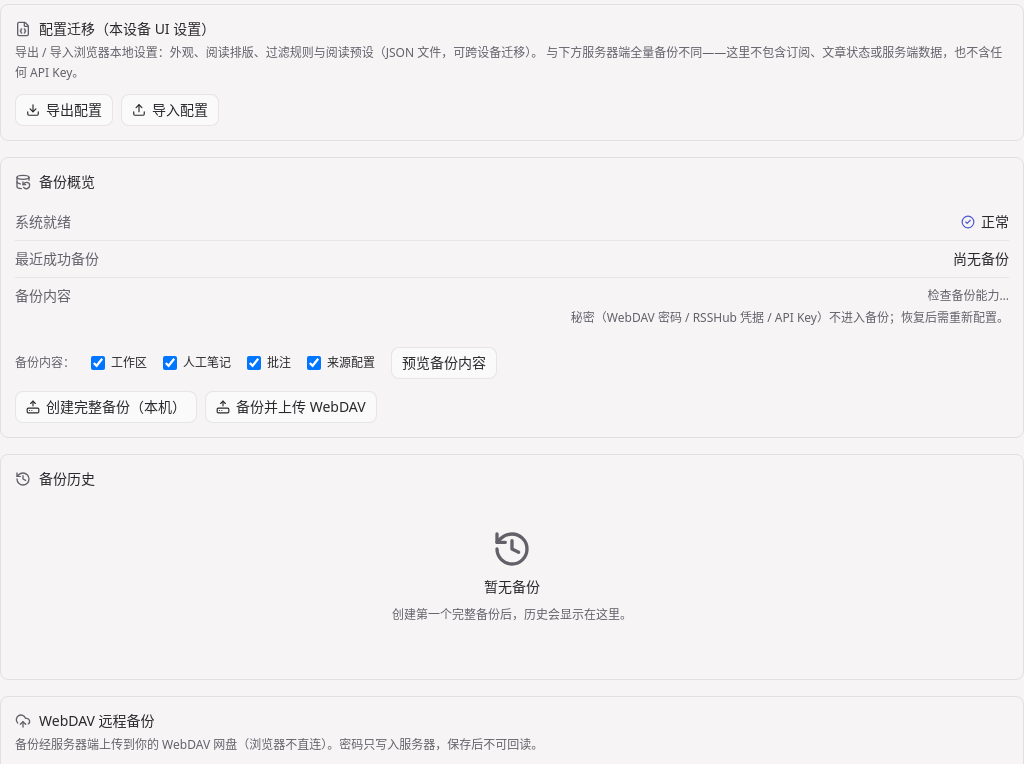
Test: 0018 备份概览与执行 › 创建失败（backup_busy）→ 稳定错误信息可见；成功后历史刷新
Expected: the text "暂无备份" is shown, [484, 577, 540, 597]
Step 1. Click the button "创建完整备份（本机）" → coordinates (106, 407), box [15, 391, 197, 423]
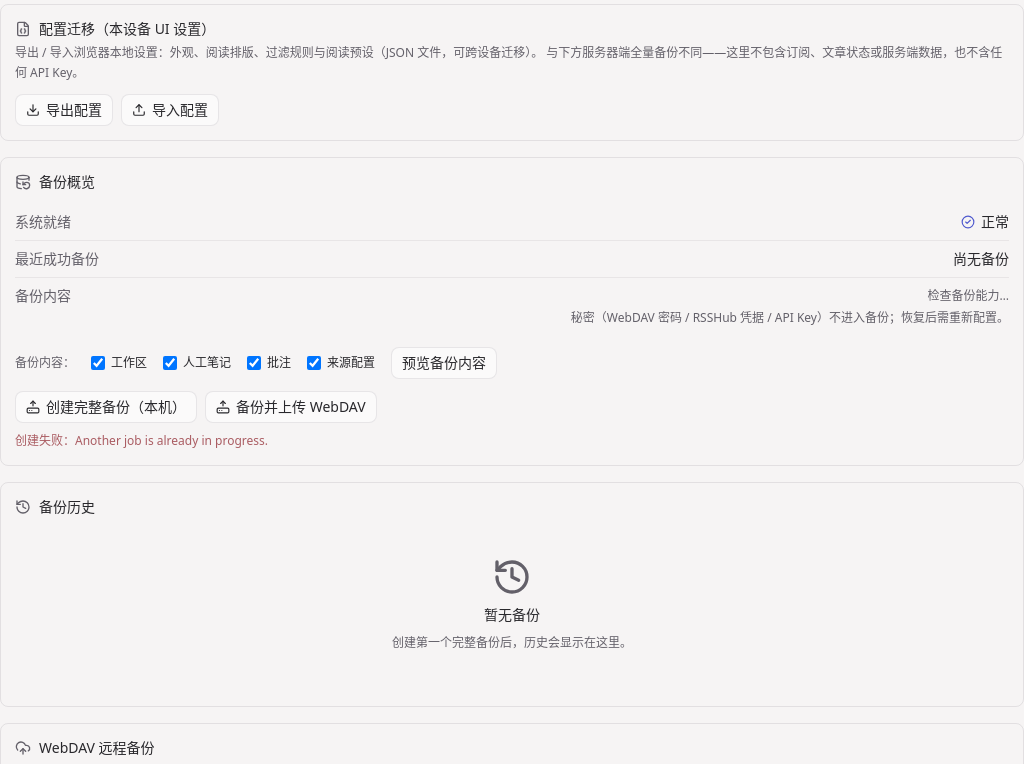
Result: the text "创建失败：Another job is already in progress." is shown at [15, 432, 268, 449]
